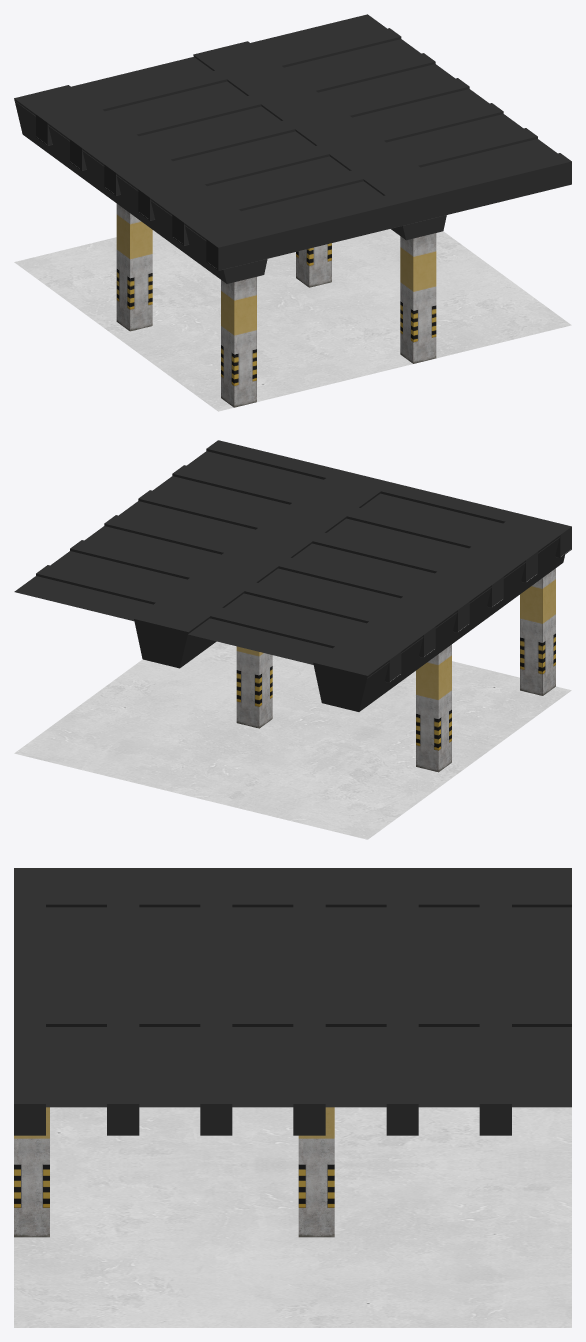
Rendered from location_1.fbx.
3 views of the same model, one above another, from view 1: azimuth 30°, elevation 25°; view 2: azimuth 150°, elevation 25°; view 3: azimuth 270°, elevation 25° (orthographic). The views are drawn at different scales.
Visible parts, largest first — view 1: Plane, Cube.002, Plane.001, Cube.001, Cube; view 2: Plane, Plane.001, Cube.001, Cube.002, Cube; view 3: Plane, Plane.001, Cube.002, Cube, Cube.001.
Part boxes in pixels (x1,y1,x2,y2): Plane: (14,229,571,411); Cube.002: (36,28,571,270); Plane.001: (14,14,557,240); Cube.001: (14,85,272,407); Cube: (193,41,451,363); Plane: (14,641,571,839); Plane.001: (14,451,559,678); Cube.001: (313,513,571,772); Cube.002: (36,440,571,682); Cube: (134,469,392,728); Plane: (14,1107,571,1327); Plane.001: (46,907,571,1107); Cube.002: (14,904,511,1135); Cube: (14,987,571,1237); Cube.001: (14,868,571,907).
Bounding box in the file's own units: 1180 × 522 × 1180.
